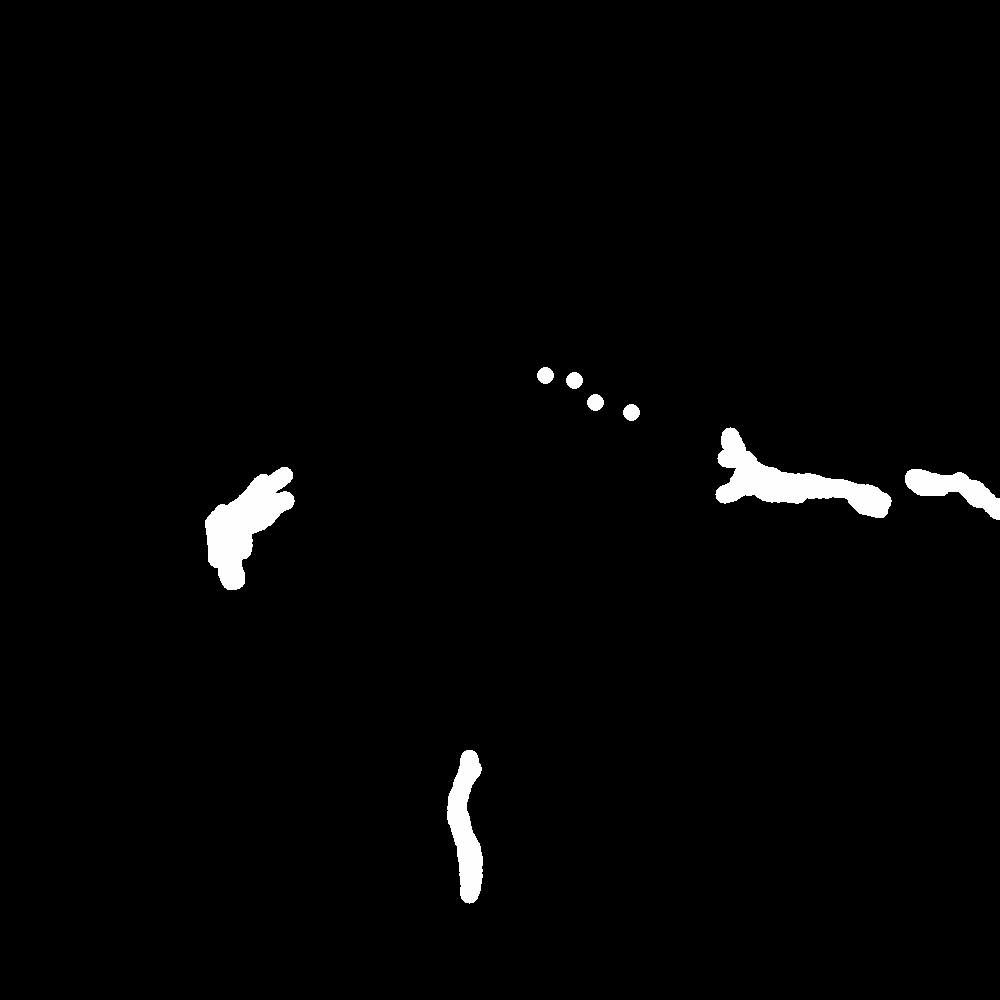illegal: (192, 406, 340, 620), (883, 230, 988, 389), (440, 754, 501, 888)
